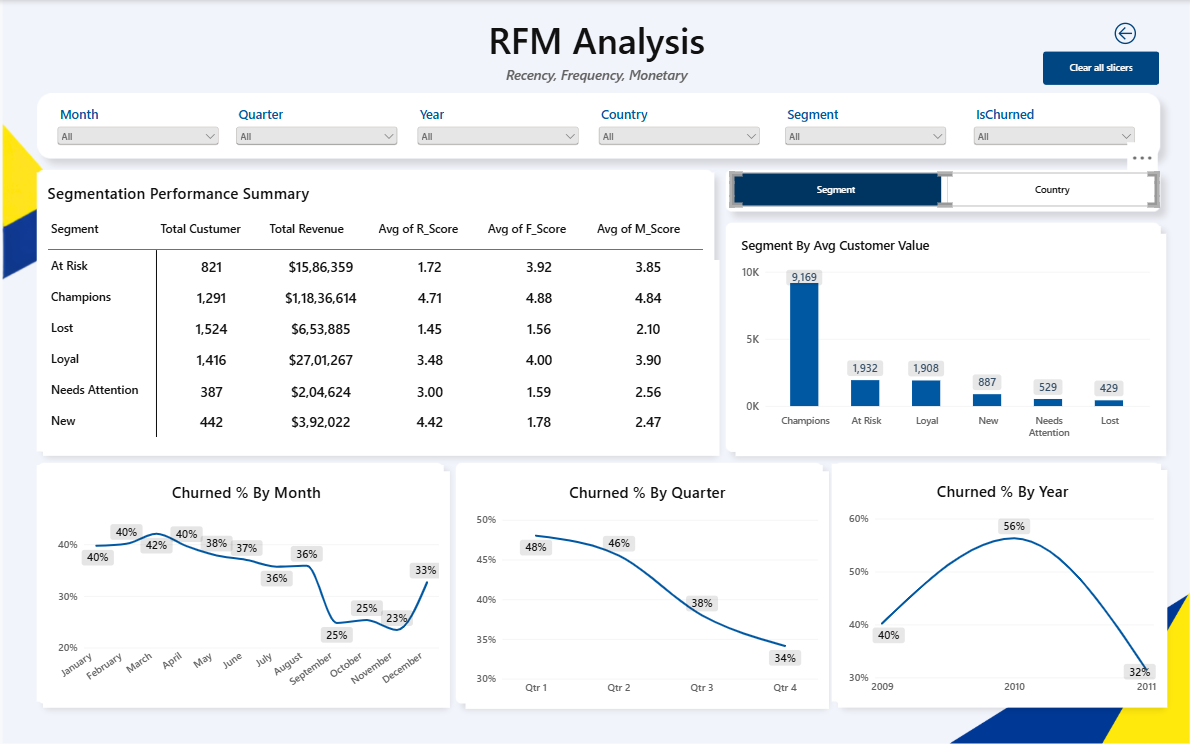

The page's visual inventory and layout, read from the dashboard file:
{"tool":"powerbi","page":{"name":"RFM Analysis","canvas":[2000,1100],"ordinal":2},"visuals":[{"type":"slicer","fields":{"Values":["Sheet1.InvoiceMonth.Variation.Date Hierarchy.Month"]},"box":[200.6,155.6,247.5,67.5],"z":0},{"type":"pivotTable","title":"Country Performance Summary","fields":{"Rows":["Sheet1.Country"],"Values":["Sheet1.Total Custumer","Sheet1.Total Revenue","Avg(Sheet1.R_Score)","Avg(Sheet1.F_Score)","Avg(Sheet1.M_Score)"]},"box":[185.1,264.4,999,411],"z":0,"group":"g3"},{"type":"columnChart","title":"Total Customers By Segment","fields":{"Category":["Sheet1.Segment"],"Y":["Sheet1.Total Custumer"]},"box":[184.4,385,997.4,288.7],"z":0,"group":"g2"},{"type":"lineChart","title":"Churned % By Year","fields":{"Category":["Sheet1.InvoiceDate.Variation.Date Hierarchy.Year"],"Y":["Sheet1.Churned %"]},"box":[1346.1,684.3,485.6,350.6],"z":0,"group":"g1"},{"type":"slicer","fields":{"Values":["Sheet1.InvoiceMonth.Variation.Date Hierarchy.Quarter"]},"box":[464.9,155.6,247.5,67.5],"z":1000},{"type":"columnChart","title":"Top 5 Countries by Avg Customer Value","fields":{"Category":["Sheet1.Country"],"Y":["Sheet1.Avg Customer Value"]},"box":[1208.1,343.7,634.1,331.8],"z":1000,"group":"g3"},{"type":"columnChart","title":"Customers Retention By Segment","fields":{"Category":["Sheet1.Segment"],"Series":["Sheet1.IsChurned"],"Y":["Sheet1.Total Custumer"]},"box":[1206.2,345.6,635.5,328.1],"z":1000,"group":"g2"},{"type":"lineChart","title":"Churned % By Quarter","fields":{"Category":["Sheet1.InvoiceDate.Variation.Date Hierarchy.Quarter"],"Y":["Sheet1.Churned %"]},"box":[796.8,686.2,536.2,350.6],"z":1000,"group":"g1"},{"type":"slicer","fields":{"Values":["Sheet1.InvoiceMonth.Variation.Date Hierarchy.Year"]},"box":[731.2,155.6,247.5,76.9],"z":2000},{"type":"lineChart","title":"Churned % By Month","fields":{"Category":["Sheet1.InvoiceDate.Variation.Date Hierarchy.Month"],"Y":["Sheet1.Churned %"]},"box":[174.4,686.2,599.9,348.7],"z":2000,"group":"g1"},{"type":"lineChart","title":"Churned % By Year","fields":{"Category":["Sheet1.InvoiceDate.Variation.Date Hierarchy.Year"],"Y":["Sheet1.Churned %"]},"box":[1356.1,694.3,485.6,350.6],"z":2000,"group":"g2"},{"type":"slicer","fields":{"Values":["Sheet1.Country"]},"box":[999.3,155.6,247.5,67.5],"z":3000},{"type":"lineChart","title":"Churned % By Quarter","fields":{"Category":["Sheet1.InvoiceDate.Variation.Date Hierarchy.Quarter"],"Y":["Sheet1.Churned %"]},"box":[806.8,696.2,536.2,350.6],"z":3000,"group":"g2"},{"type":"slicer","fields":{"Values":["Sheet1.Segment"]},"box":[1273,155.6,247.5,67.5],"z":4000},{"type":"lineChart","title":"Churned % By Month","fields":{"Category":["Sheet1.InvoiceDate.Variation.Date Hierarchy.Month"],"Y":["Sheet1.Churned %"]},"box":[184.4,696.2,599.9,348.7],"z":4000,"group":"g2"},{"type":"slicer","fields":{"Values":["Sheet1.IsChurned"]},"box":[1552.3,155.6,247.5,67.5],"z":5000},{"type":"group","id":"g1","title":"Revenue","box":[174.4,684.3,1657.3,352.5],"z":6000},{"type":"group","id":"g2","title":"Customer","box":[184.4,345.6,1657.3,701.2],"z":7000},{"type":"bookmarkNavigator","box":[1198.1,254.4,632.2,49.8],"z":8000},{"type":"textbox","title":"RFM Analysis","box":[443.4,22.1,1113.3,105.1],"z":9000},{"type":"actionButton","box":[1730.7,22.1,99.5,53.5],"z":10000},{"type":"actionButton","box":[1658.9,75.6,171.4,49.8],"z":11000},{"type":"group","id":"g3","title":"Group 2","box":[185.1,264.4,1657,411],"z":13000},{"type":"bookmarkNavigator","box":[1197.4,254.7,631.8,50.1],"z":14000}]}

Visuals, with their boxes on the page's 2000x1100 design canvas (x1, y1, x2, y2). These are canvas units, not pixel positions in the 1190x744 screenshot, which may show the page scaled, cropped or inside an application window:
slicer - Sheet1.InvoiceMonth.Variation.Date Hierarchy.Month: <region>201, 156, 448, 223</region>
"Country Performance Summary" pivotTable: <region>185, 264, 1184, 675</region>
"Total Customers By Segment" columnChart: <region>184, 385, 1182, 674</region>
"Churned % By Year" lineChart: <region>1346, 684, 1832, 1035</region>
slicer - Sheet1.InvoiceMonth.Variation.Date Hierarchy.Quarter: <region>465, 156, 712, 223</region>
"Top 5 Countries by Avg Customer Value" columnChart: <region>1208, 344, 1842, 676</region>
"Customers Retention By Segment" columnChart: <region>1206, 346, 1842, 674</region>
"Churned % By Quarter" lineChart: <region>797, 686, 1333, 1037</region>
slicer - Sheet1.InvoiceMonth.Variation.Date Hierarchy.Year: <region>731, 156, 979, 232</region>
"Churned % By Month" lineChart: <region>174, 686, 774, 1035</region>
"Churned % By Year" lineChart: <region>1356, 694, 1842, 1045</region>
slicer - Sheet1.Country: <region>999, 156, 1247, 223</region>
"Churned % By Quarter" lineChart: <region>807, 696, 1343, 1047</region>
slicer - Sheet1.Segment: <region>1273, 156, 1520, 223</region>
"Churned % By Month" lineChart: <region>184, 696, 784, 1045</region>
slicer - Sheet1.IsChurned: <region>1552, 156, 1800, 223</region>
"Revenue" group: <region>174, 684, 1832, 1037</region>
"Customer" group: <region>184, 346, 1842, 1047</region>
bookmarkNavigator: <region>1198, 254, 1830, 304</region>
"RFM Analysis" textbox: <region>443, 22, 1557, 127</region>
actionButton: <region>1731, 22, 1830, 76</region>
actionButton: <region>1659, 76, 1830, 125</region>
"Group 2" group: <region>185, 264, 1842, 675</region>
bookmarkNavigator: <region>1197, 255, 1829, 305</region>
